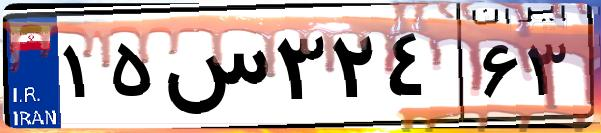1: (57, 26, 110, 100)
2: (330, 28, 385, 110)
3: (270, 28, 330, 110), (525, 38, 570, 115)
4: (385, 28, 445, 110)
5: (110, 28, 158, 98)
6: (475, 38, 525, 113)
س: (158, 20, 270, 120)
